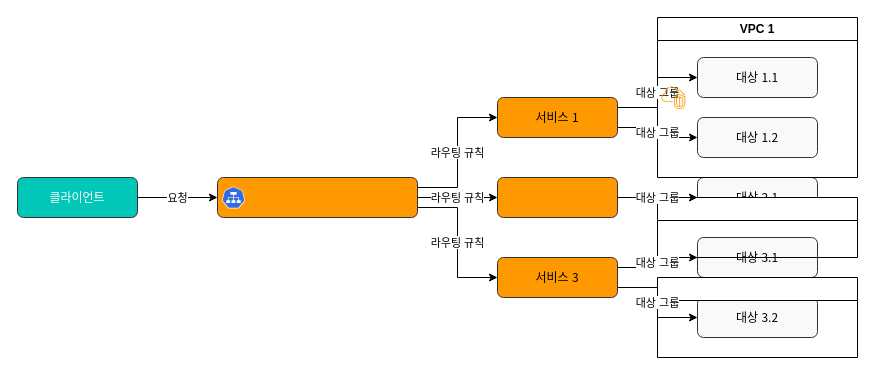
Image size: 875x375. Some labels were removed from this diagram. Each missing label, with the box of its shape:
VPC 2: (656, 196, 858, 258)
VPC 3: (656, 276, 858, 358)
VPC Lattice 서비스 네트워크: (216, 176, 418, 218)
서비스 2: (496, 176, 618, 218)
